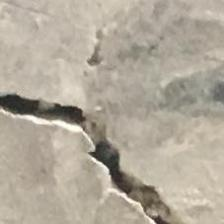Crack: (0, 82, 189, 224)
